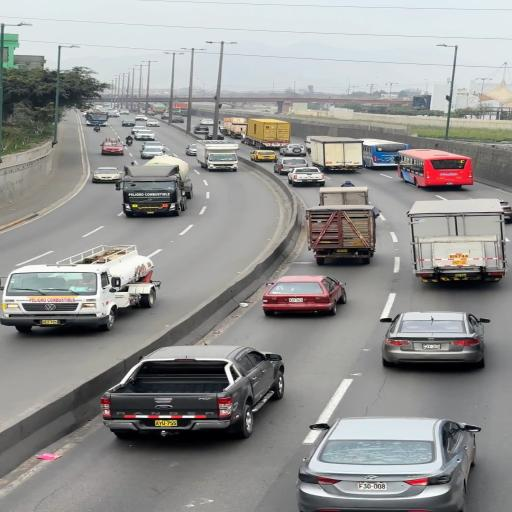auto: (295, 415, 475, 511), (100, 344, 282, 437), (378, 310, 488, 368), (262, 275, 345, 316), (286, 168, 325, 186), (91, 167, 124, 184)
bus: (0, 248, 157, 331), (404, 200, 508, 275), (303, 193, 378, 258), (114, 158, 192, 216), (306, 135, 365, 173), (242, 118, 292, 150), (194, 139, 240, 172), (220, 118, 248, 140), (100, 137, 125, 155), (85, 112, 109, 128), (151, 104, 167, 115)
camion: (125, 136, 133, 145)
moto: (398, 148, 476, 189), (355, 139, 408, 169)
